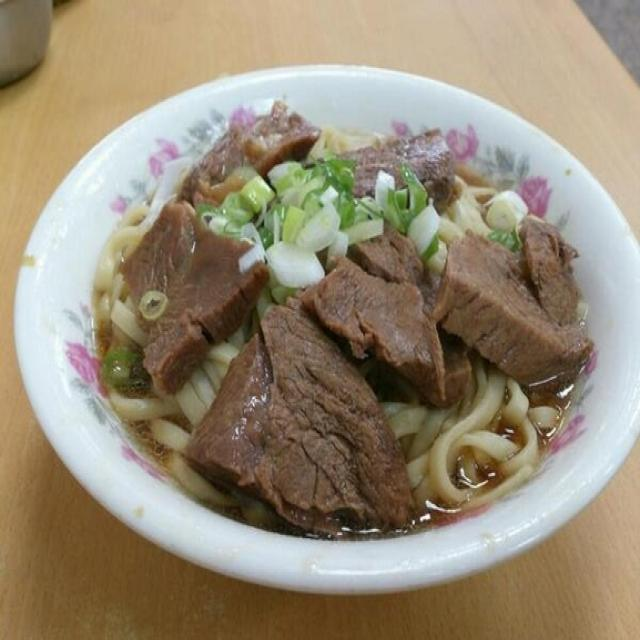面条主食: (60, 80, 589, 585)
